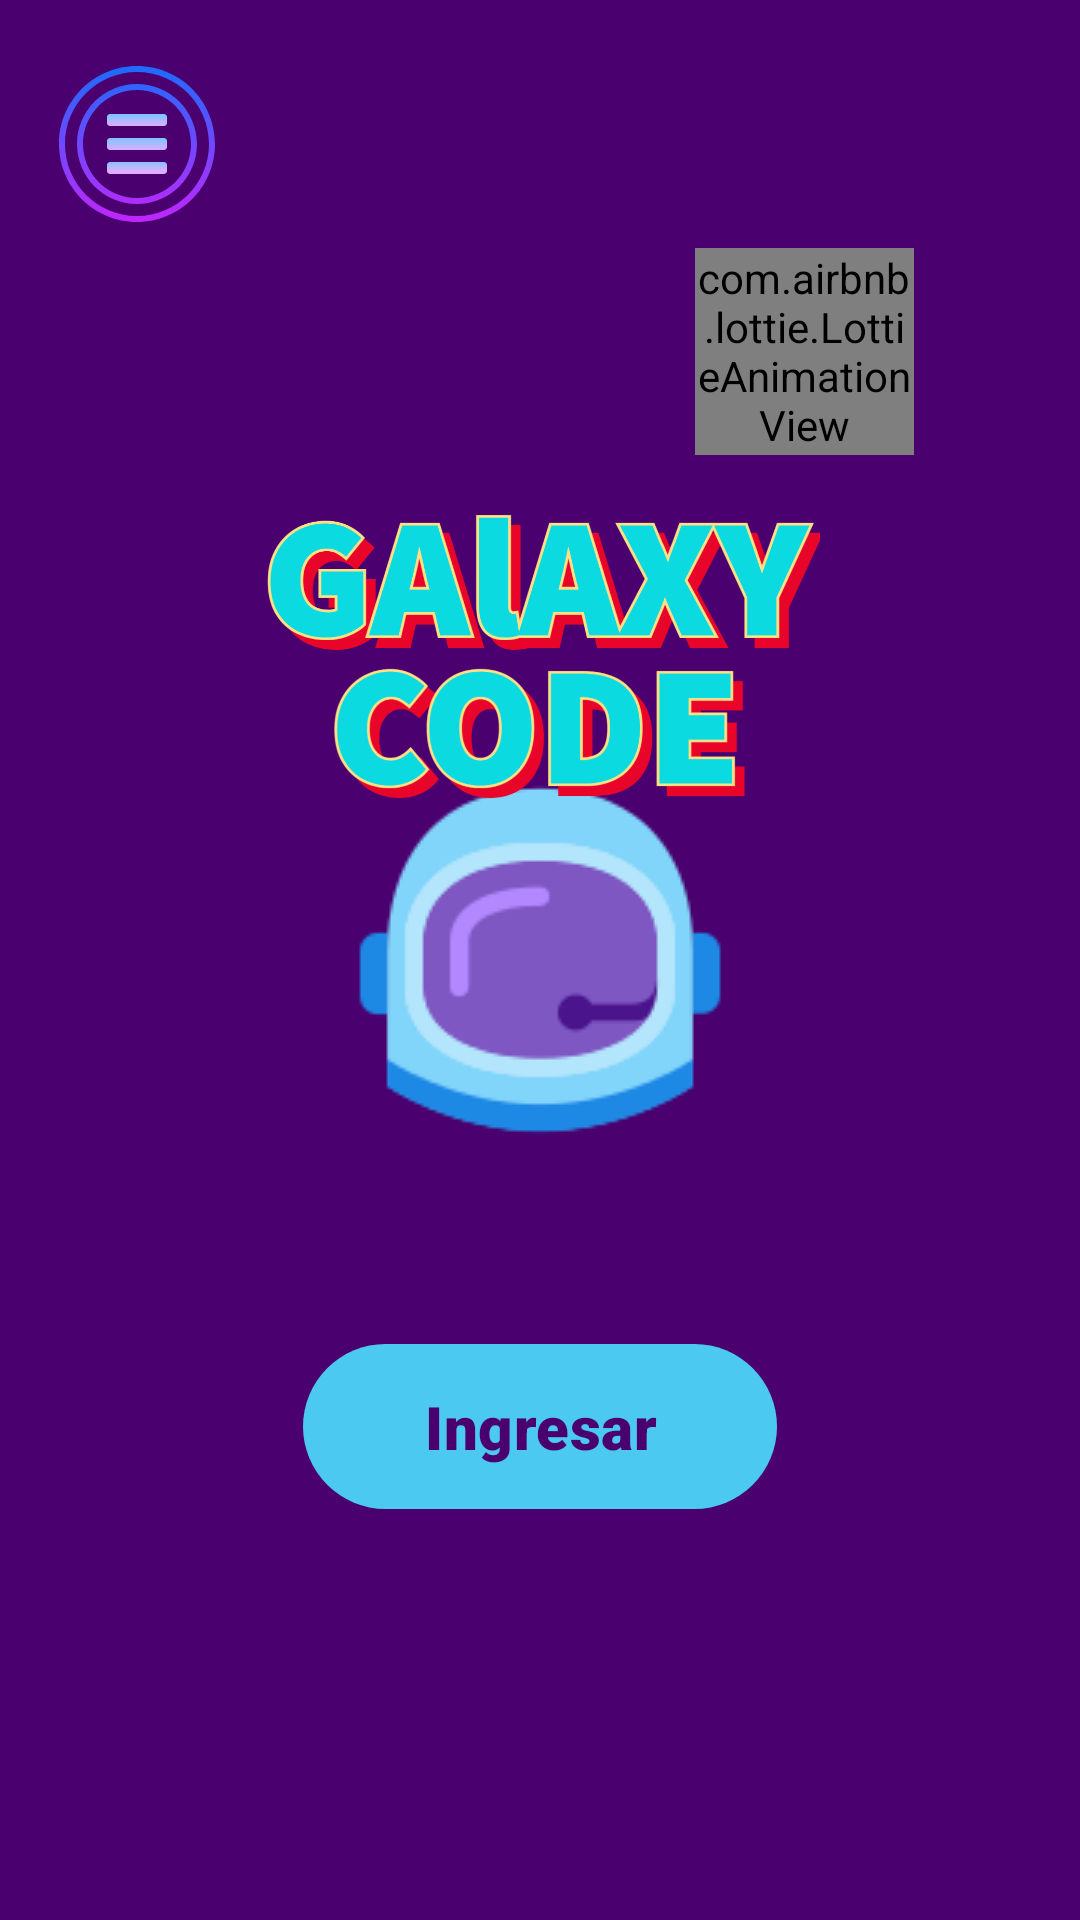

Icon click points for this 1080×1920 phone screenshot, format [x,y]:
menu: [137,144]
